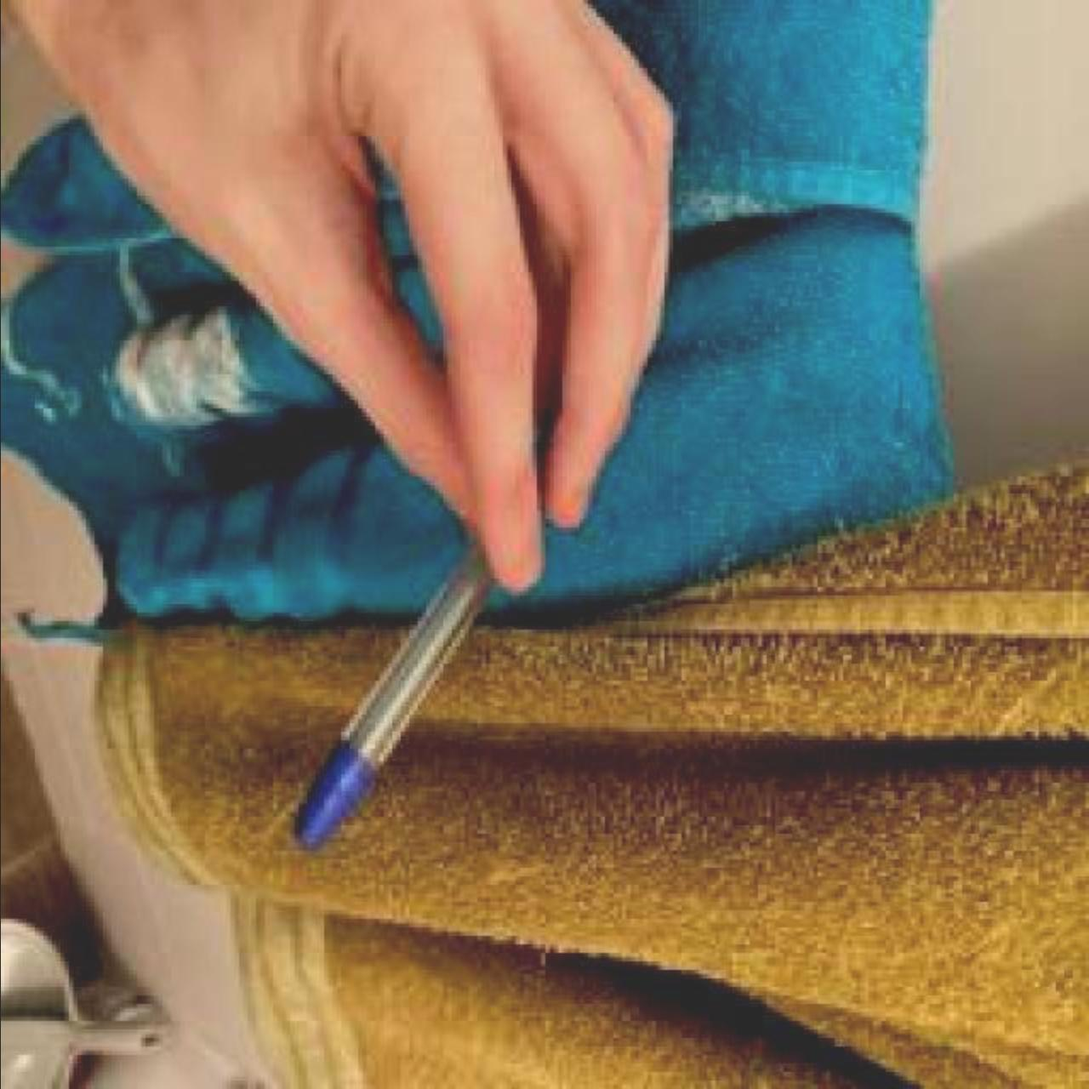pen: (289, 442, 553, 859)
